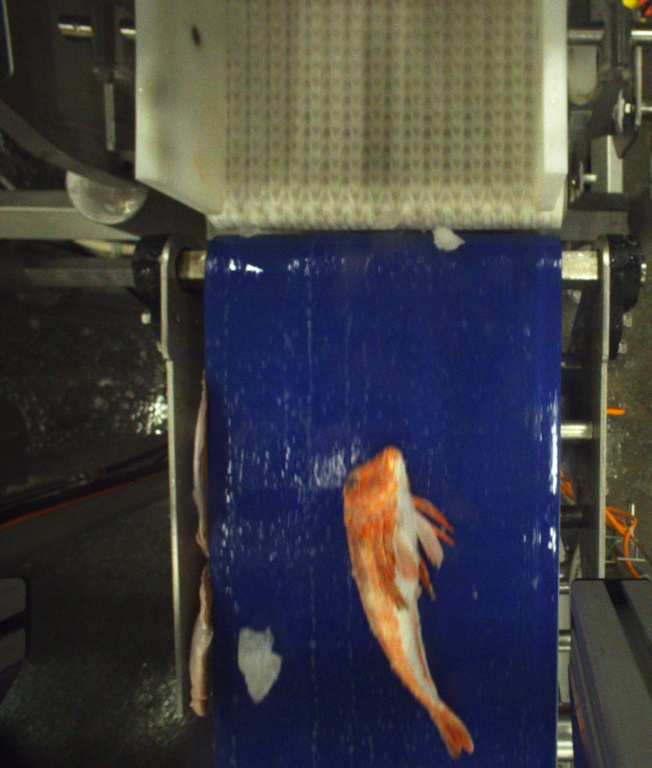GUU: (338, 444, 477, 764)
